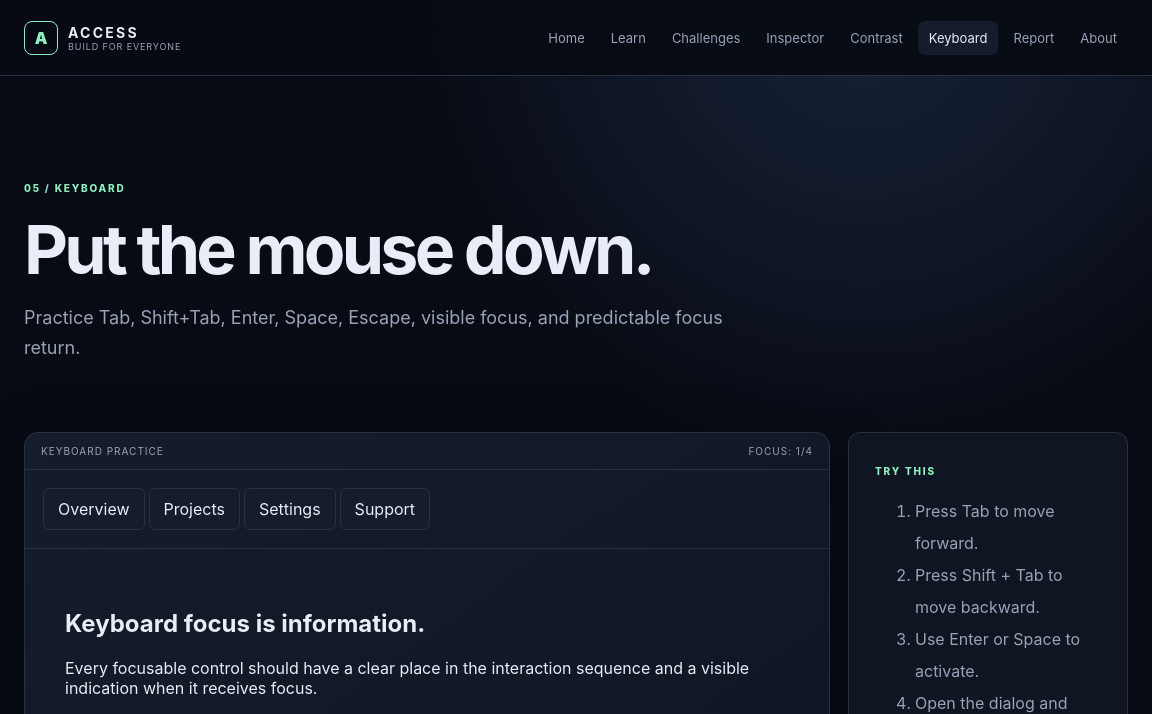
it: ACCESS Level 2 › completes the keyboard lab
Click the button "Support" at (385, 509), box [340,488,430,530]
(page scrolled)
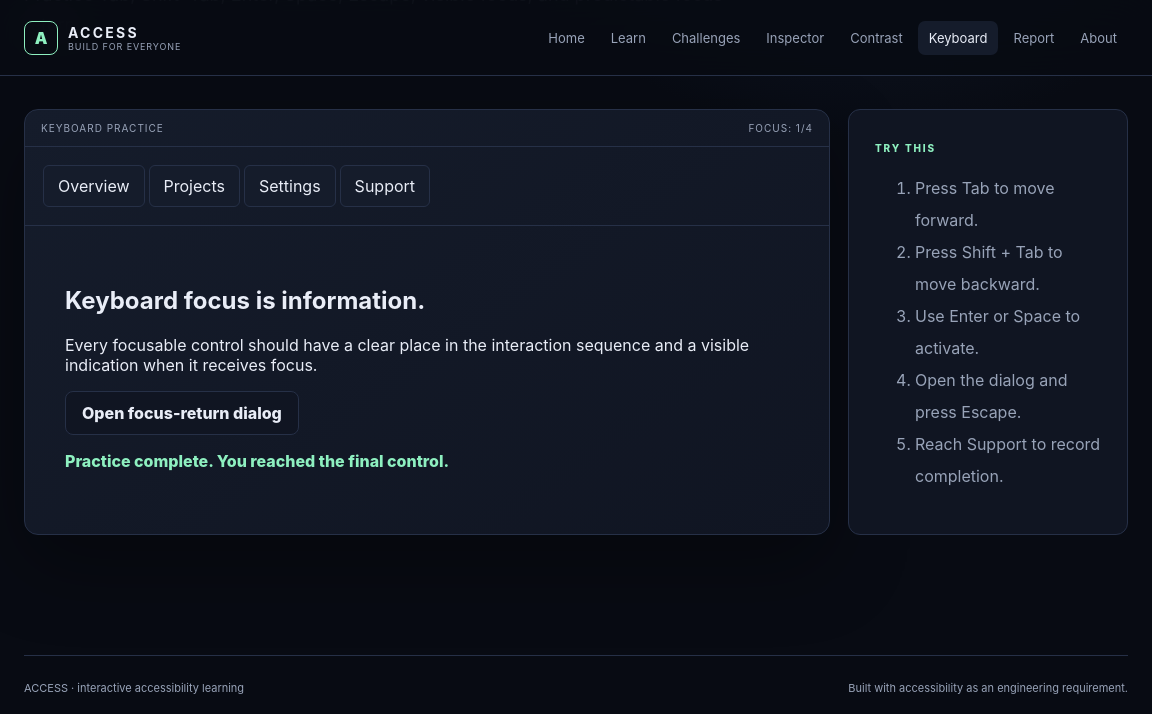
Expected: the text "Practice complete. You reached the final control." is shown, [65,451,449,471]
